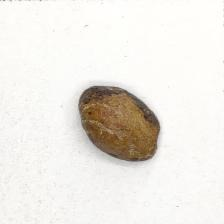NG: (80, 84, 162, 130)
